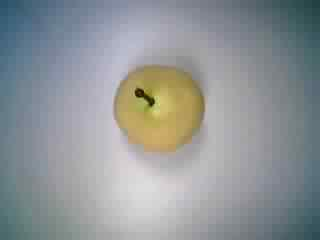pear: (100, 49, 214, 158)
